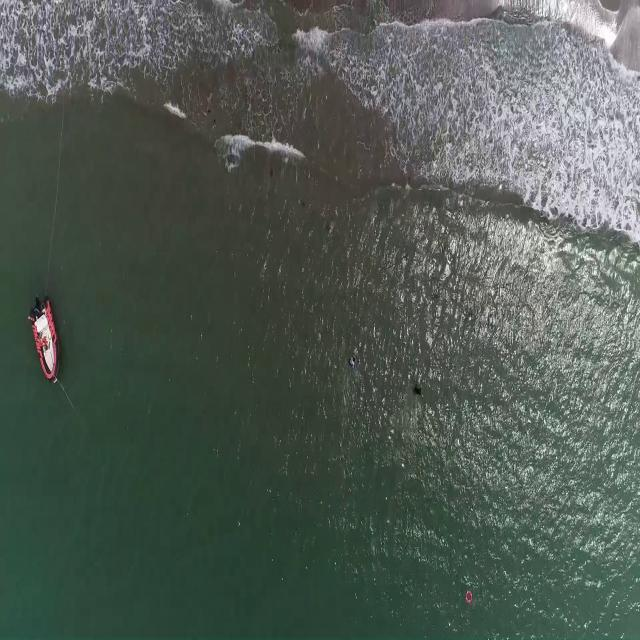boat: (30, 296, 60, 384)
life_buoy: (465, 590, 473, 604)
person: (348, 350, 359, 371), (412, 378, 423, 397)
